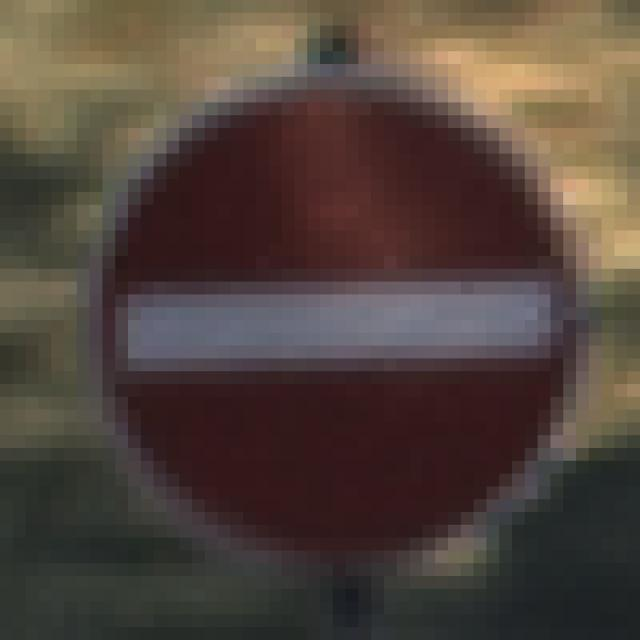No Entry: (78, 65, 577, 577)
